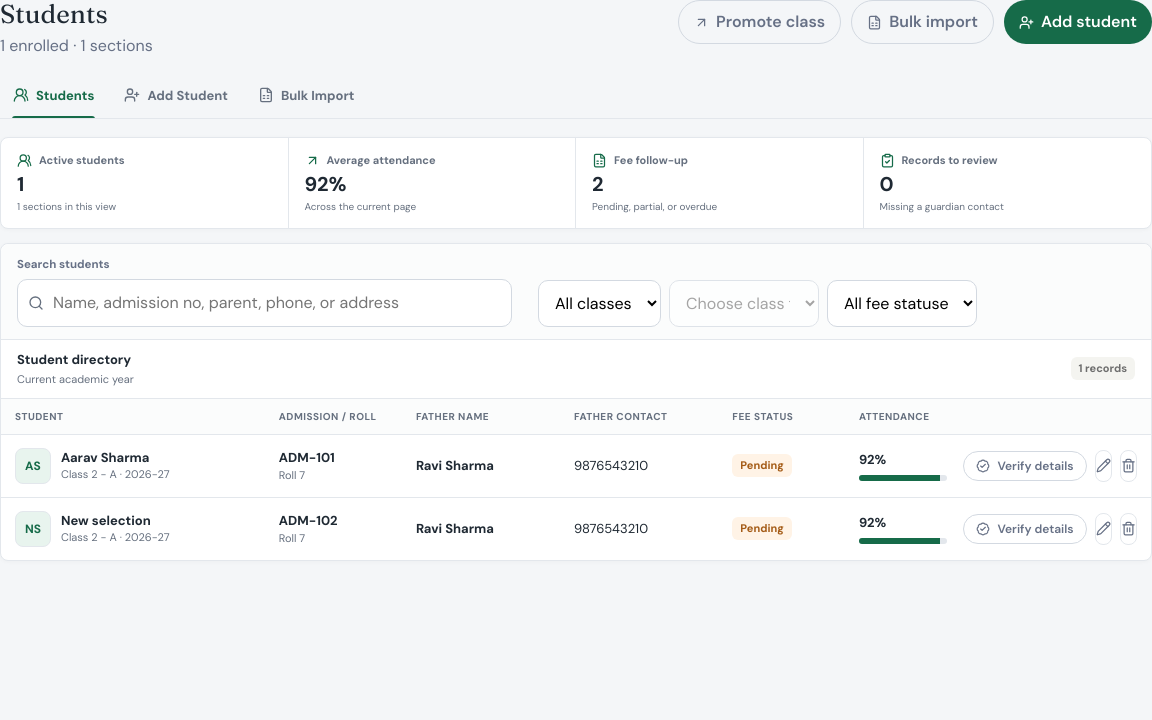
it: StudentsPanel › keeps the newly selected student when a closed modal detail request resolves late
This screenshot has width=1152, height=720.
Click the text "Aarav Sharma" at (105, 457), box [61,449,149,466]
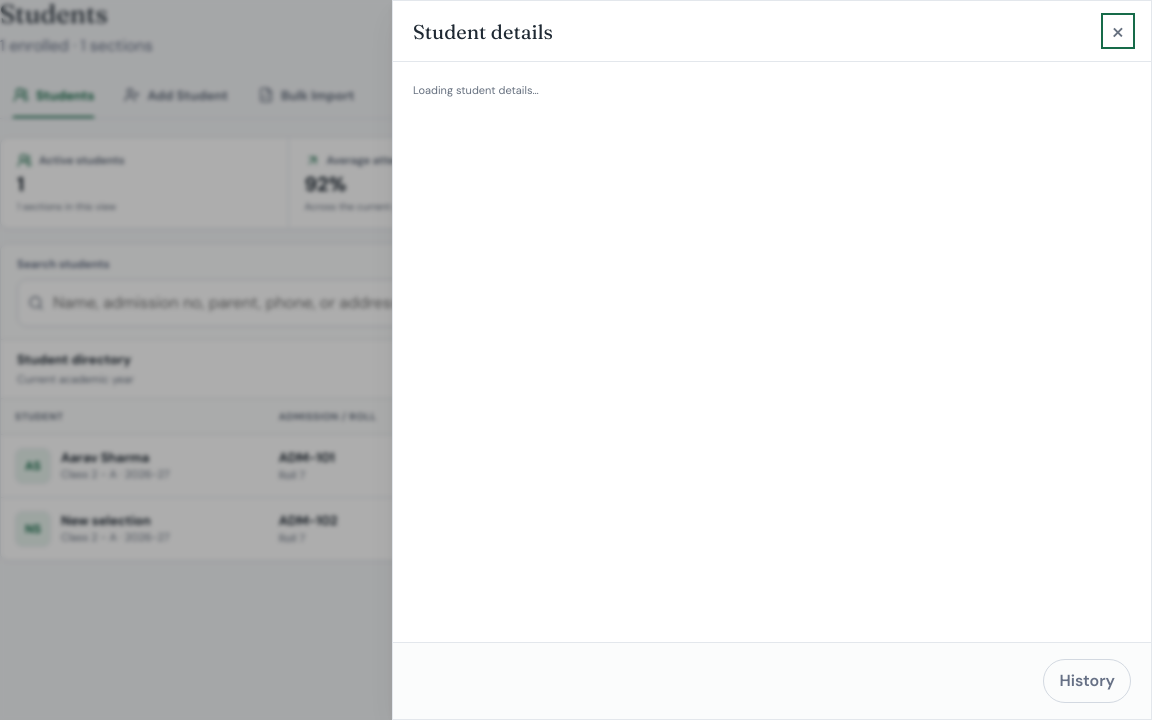
Click the button named "Close student details" at (1118, 31), box [1105,17,1131,45]
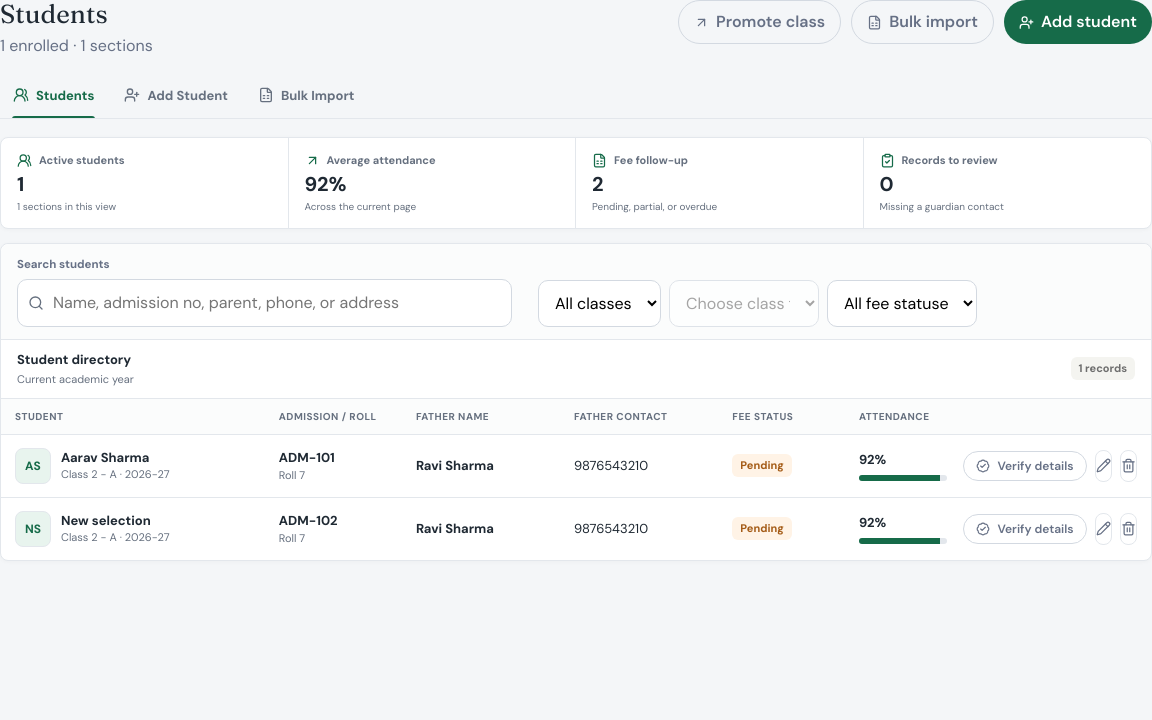
Click the text "New selection" at (106, 520), box [61,512,151,529]
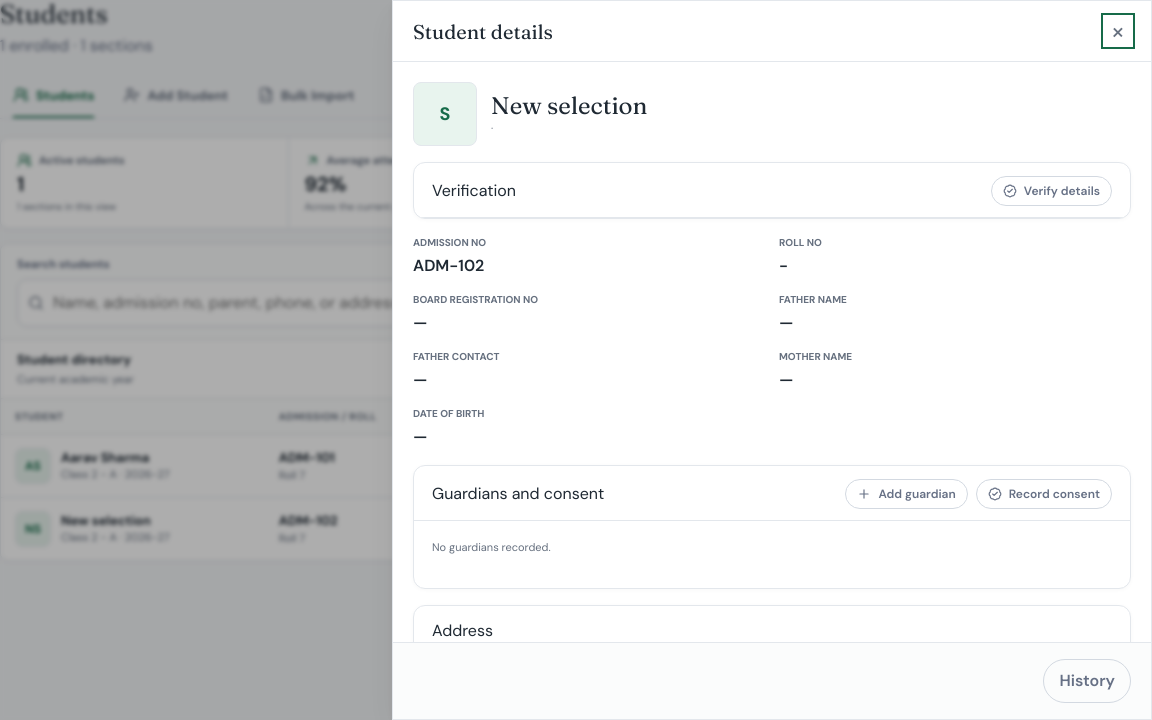
Result: the text "New selection" is shown at [491,91,648,120]
